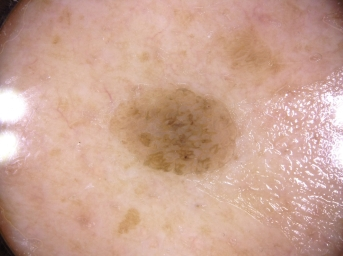seborrheic keratosis: (100, 71, 248, 192)
